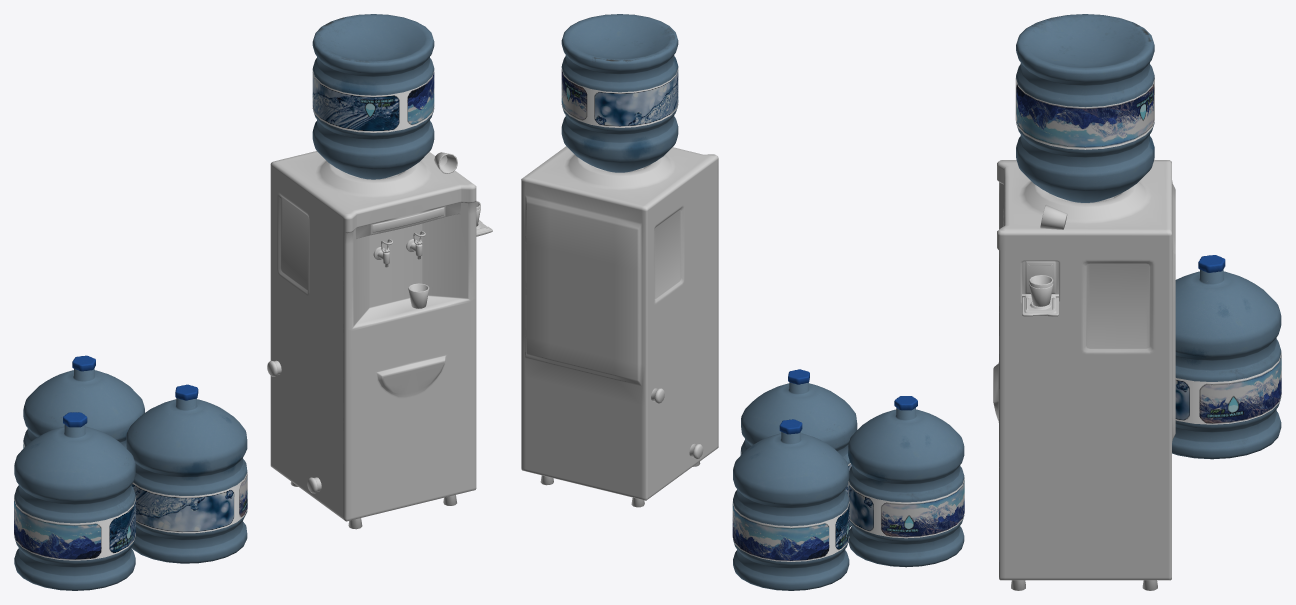
The model's file is uploads_files_3156658_Mesh_Combine.fbx.
3 views of the same model, side by side, from view 1: azimuth 30°, elevation 25°; view 2: azimuth 150°, elevation 25°; view 3: azimuth 270°, elevation 25° (orthographic). The views are drawn at different scales.
Visible parts, largest first — view 1: Water_Machine001, Water_Bottle003, Water_Bottle001, Water_Bottle002, Water_Bottle004; view 2: Water_Machine001, Water_Bottle004, Water_Bottle003, Water_Bottle001, Water_Bottle002; view 3: Water_Machine001, Water_Bottle001, Water_Bottle004, Object017, Object015.
Boxes of the visible parts, x1=… form: Water_Machine001: x1=267, y1=151, x2=492, y2=529; Water_Bottle003: x1=14, y1=412, x2=135, y2=590; Water_Bottle001: x1=312, y1=14, x2=434, y2=179; Water_Bottle002: x1=126, y1=384, x2=247, y2=563; Water_Bottle004: x1=23, y1=355, x2=144, y2=448; Water_Machine001: x1=521, y1=146, x2=718, y2=507; Water_Bottle004: x1=732, y1=419, x2=849, y2=590; Water_Bottle003: x1=847, y1=396, x2=964, y2=567; Water_Bottle001: x1=561, y1=14, x2=678, y2=172; Water_Bottle002: x1=740, y1=369, x2=857, y2=527; Water_Machine001: x1=993, y1=160, x2=1175, y2=590; Water_Bottle001: x1=1015, y1=14, x2=1154, y2=202; Water_Bottle004: x1=1172, y1=255, x2=1281, y2=459; Object017: x1=1040, y1=205, x2=1067, y2=229; Object015: x1=1029, y1=283, x2=1053, y2=306.
Size of the model in its own units: 152 by 149 by 74.99.
